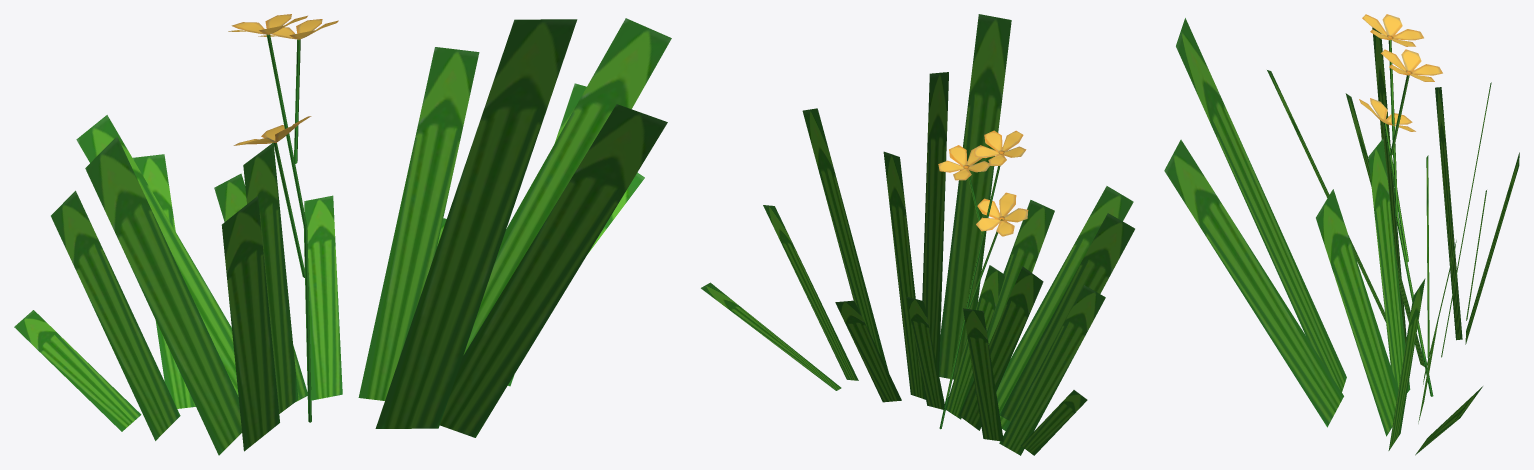
The model's file is hua_L6.fbx.
3 views of the same model, side by side, from view 1: azimuth 30°, elevation 25°; view 2: azimuth 150°, elevation 25°; view 3: azimuth 270°, elevation 25° (orthographic). The views are drawn at different scales.
Parts seen in each view (by area): view 1: hua_L6; view 2: hua_L6; view 3: hua_L6.
Part boxes in pixels (left/top/right/bottom): hua_L6: left=14, top=14, right=671, bottom=455; hua_L6: left=701, top=14, right=1134, bottom=455; hua_L6: left=1164, top=14, right=1519, bottom=455.
Size of the model in its own units: 15.61 by 12.24 by 9.93.
